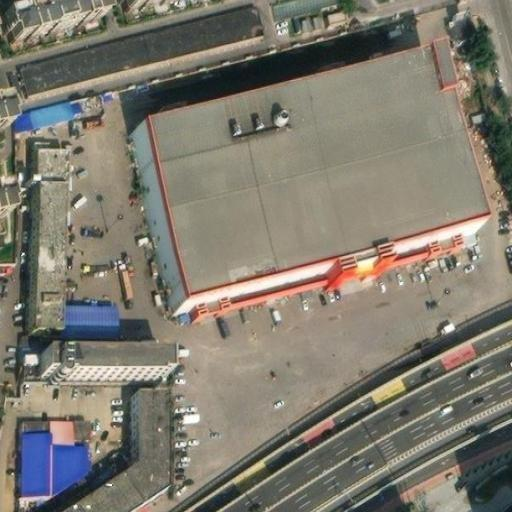building: (128, 50, 470, 303), (195, 227, 465, 309), (49, 382, 171, 512), (27, 148, 64, 328), (12, 90, 85, 166), (25, 411, 87, 481), (40, 346, 163, 373), (0, 0, 102, 32), (59, 298, 118, 330), (430, 32, 461, 87), (441, 5, 478, 44), (0, 181, 16, 211)
